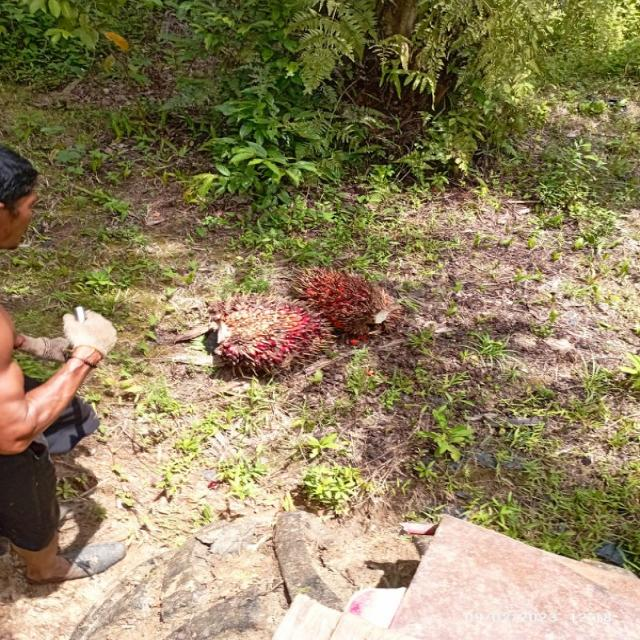fraksi 3: (210, 291, 340, 374)
fraksi 4: (282, 251, 412, 347)
